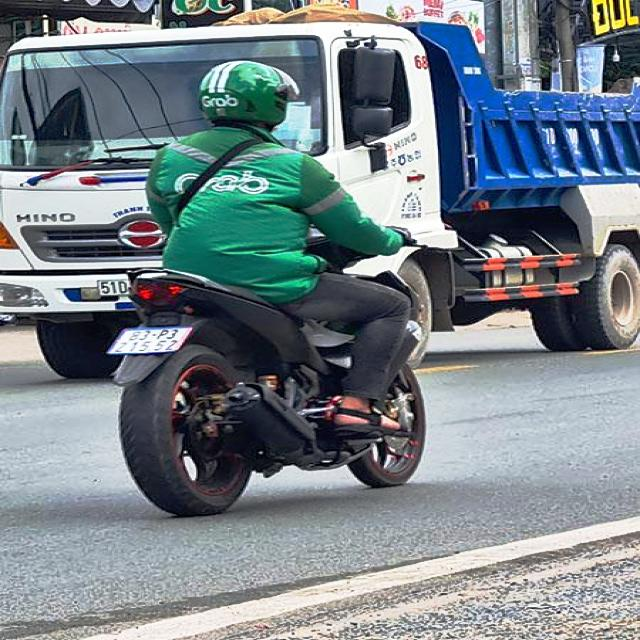license_plate: (111, 328, 193, 353)
